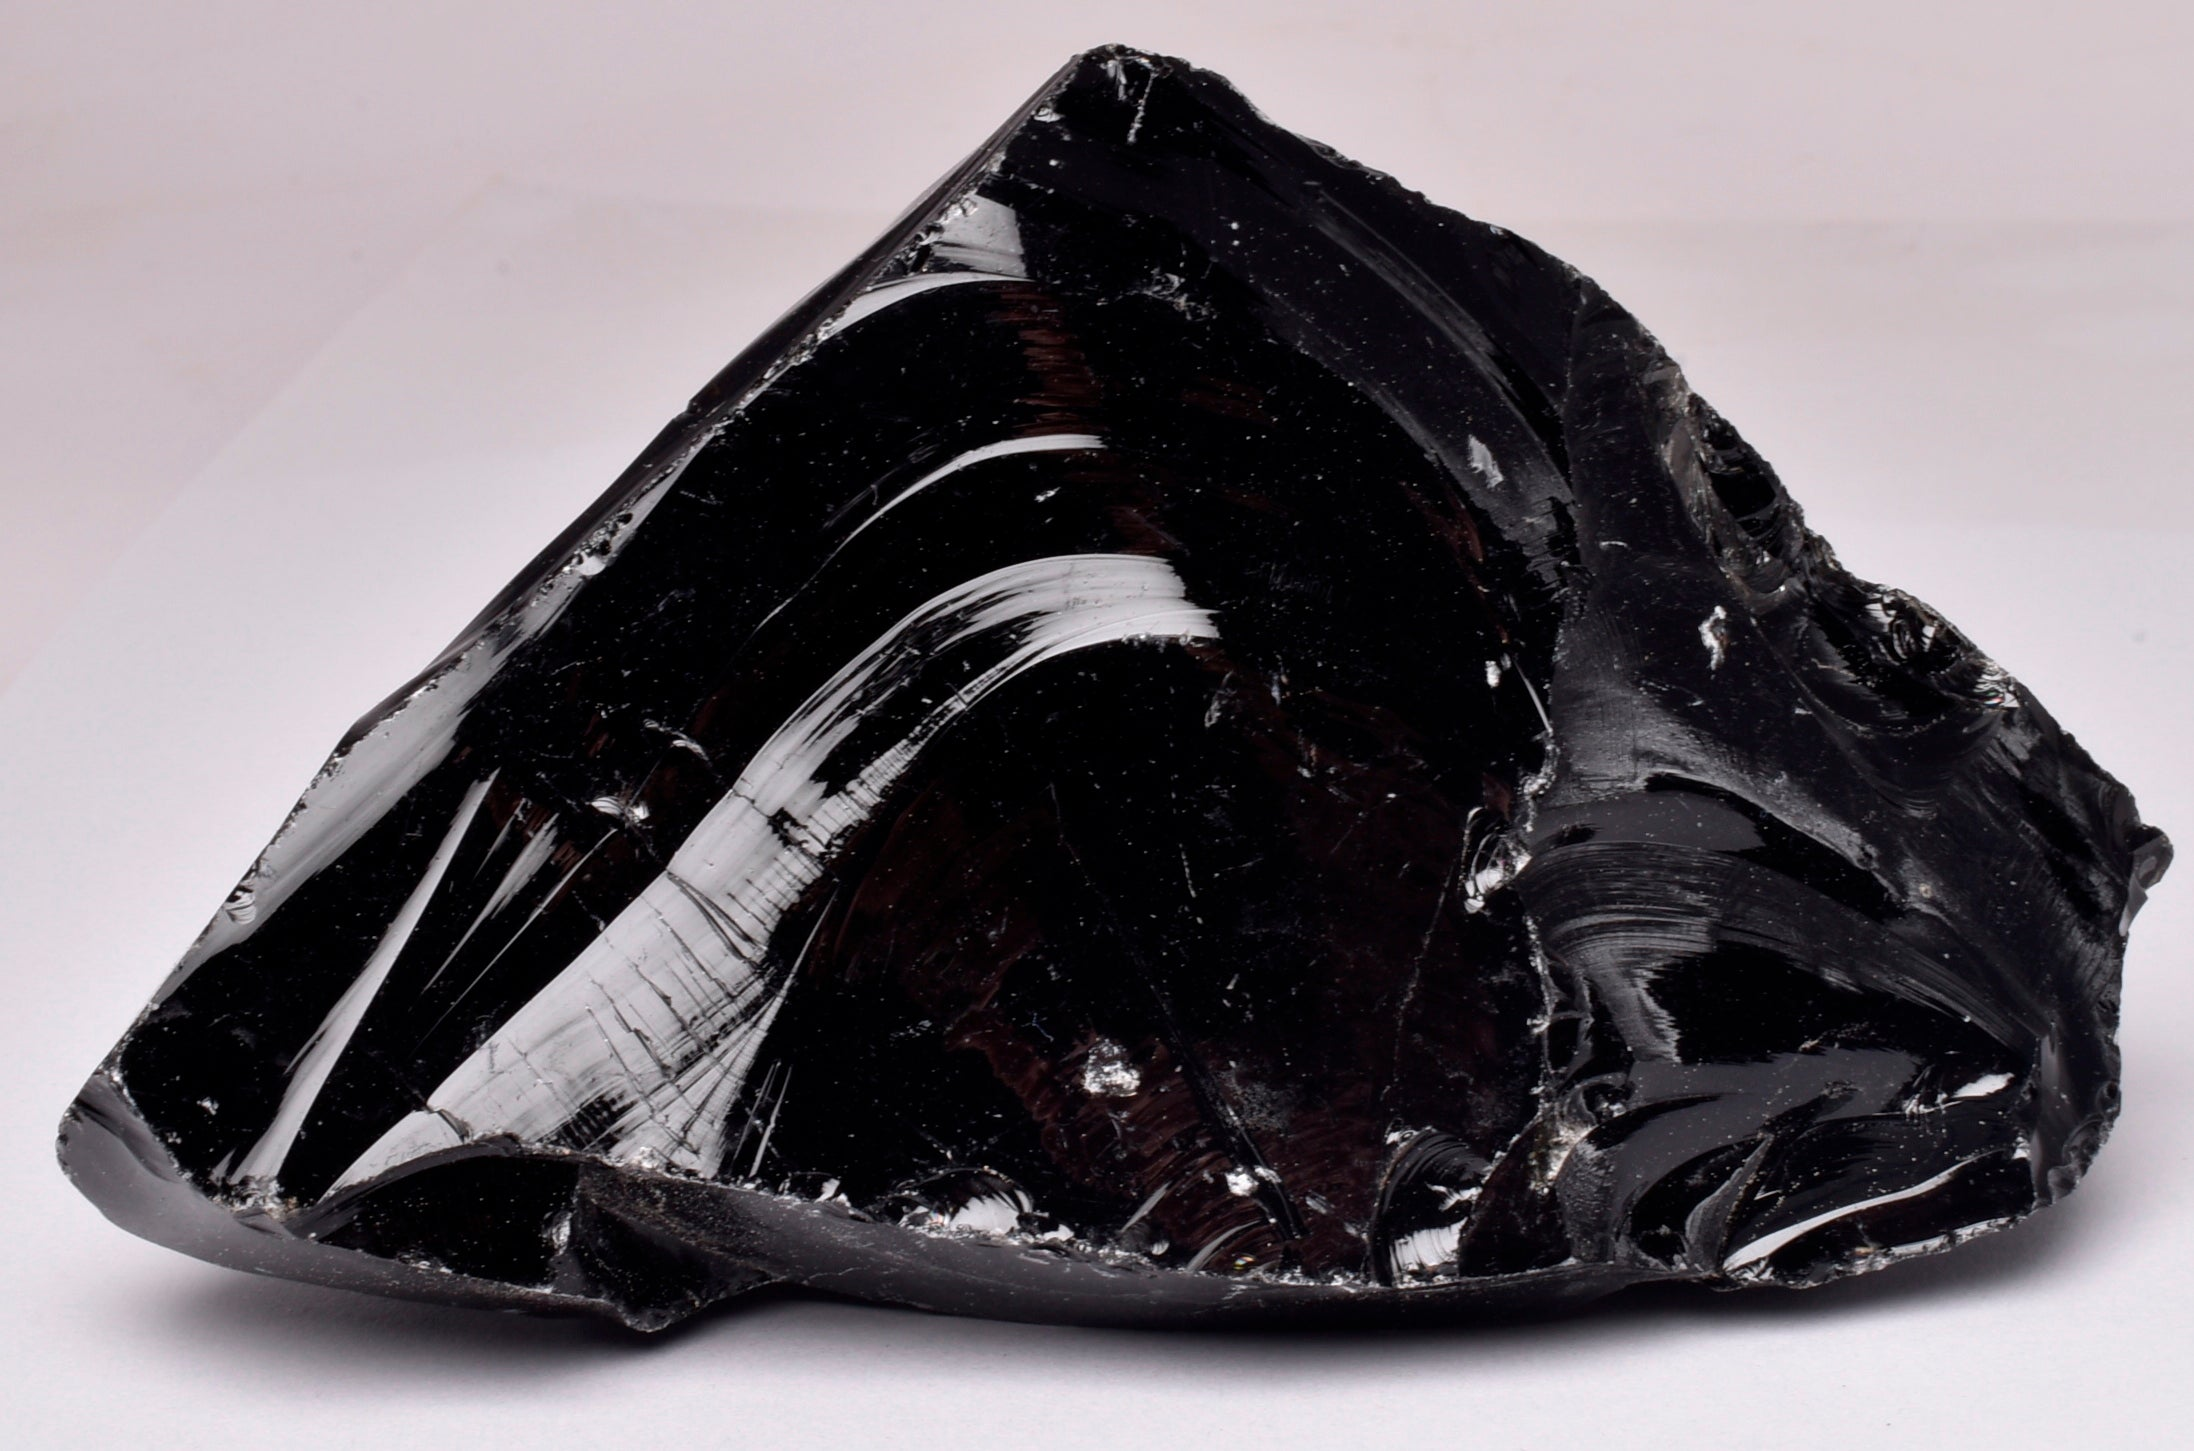Obsidian: (57, 49, 2170, 1334)
